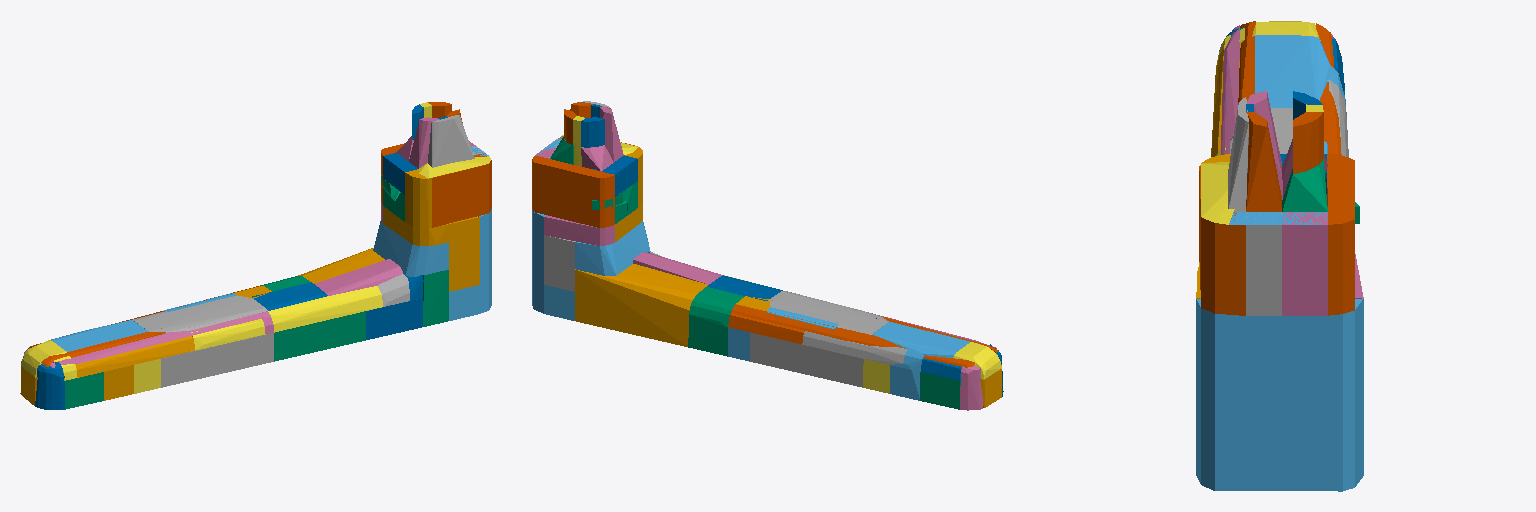
--- Render facts (derived) ---
The picture shows the robot from 3 angles, left to right: view 1: azimuth 30°, elevation 25°; view 2: azimuth 150°, elevation 25°; view 3: azimuth 270°, elevation 25°; orthographic projection.
Robot: root — 64 links, 63 joints (63 fixed); root link link_handle~handle7_convex_piece_0; default pose: every joint at zero.
Visible links, largest first — view 1: link_handle~handle7_convex_piece_63, link_handle~handle7_convex_piece_21, link_handle~handle7_convex_piece_58, link_handle~handle7_convex_piece_35, link_handle~handle7_convex_piece_47, link_handle~handle7_convex_piece_49, link_handle~handle7_convex_piece_8, link_handle~handle7_convex_piece_55, link_handle~handle7_convex_piece_48, link_handle~handle7_convex_piece_44, link_handle~handle7_convex_piece_46, link_handle~handle7_convex_piece_38 (+19 smaller); view 2: link_handle~handle7_convex_piece_56, link_handle~handle7_convex_piece_45, link_handle~handle7_convex_piece_63, link_handle~handle7_convex_piece_34, link_handle~handle7_convex_piece_49, link_handle~handle7_convex_piece_47, link_handle~handle7_convex_piece_61, link_handle~handle7_convex_piece_41, link_handle~handle7_convex_piece_7, link_handle~handle7_convex_piece_22, link_handle~handle7_convex_piece_57, link_handle~handle7_convex_piece_25 (+17 smaller); view 3: link_handle~handle7_convex_piece_25, link_handle~handle7_convex_piece_6, link_handle~handle7_convex_piece_41, link_handle~handle7_convex_piece_45, link_handle~handle7_convex_piece_21, link_handle~handle7_convex_piece_15, link_handle~handle7_convex_piece_53, link_handle~handle7_convex_piece_55, link_handle~handle7_convex_piece_26, link_handle~handle7_convex_piece_29, link_handle~handle7_convex_piece_38, link_handle~handle7_convex_piece_43 (+7 smaller).
Boxes of the visible links, bbox=[...] form: link_handle~handle7_convex_piece_63: bbox=[161, 333, 273, 387]; link_handle~handle7_convex_piece_21: bbox=[432, 153, 491, 227]; link_handle~handle7_convex_piece_58: bbox=[274, 311, 365, 361]; link_handle~handle7_convex_piece_35: bbox=[268, 286, 382, 332]; link_handle~handle7_convex_piece_47: bbox=[134, 295, 267, 333]; link_handle~handle7_convex_piece_49: bbox=[373, 220, 448, 276]; link_handle~handle7_convex_piece_8: bbox=[449, 216, 479, 291]; link_handle~handle7_convex_piece_55: bbox=[428, 115, 474, 167]; link_handle~handle7_convex_piece_48: bbox=[75, 336, 194, 377]; link_handle~handle7_convex_piece_44: bbox=[366, 298, 422, 339]; link_handle~handle7_convex_piece_46: bbox=[314, 259, 402, 295]; link_handle~handle7_convex_piece_38: bbox=[50, 313, 261, 367]; link_handle~handle7_convex_piece_56: bbox=[575, 264, 707, 346]; link_handle~handle7_convex_piece_45: bbox=[532, 156, 614, 227]; link_handle~handle7_convex_piece_63: bbox=[750, 332, 863, 387]; link_handle~handle7_convex_piece_34: bbox=[688, 287, 744, 356]; link_handle~handle7_convex_piece_49: bbox=[575, 221, 650, 275]; link_handle~handle7_convex_piece_47: bbox=[769, 291, 888, 332]; link_handle~handle7_convex_piece_61: bbox=[731, 304, 974, 367]; link_handle~handle7_convex_piece_41: bbox=[872, 322, 969, 357]; link_handle~handle7_convex_piece_7: bbox=[544, 235, 575, 291]; link_handle~handle7_convex_piece_22: bbox=[544, 215, 614, 245]; link_handle~handle7_convex_piece_57: bbox=[890, 348, 924, 400]; link_handle~handle7_convex_piece_25: bbox=[532, 209, 546, 313]; link_handle~handle7_convex_piece_25: bbox=[1196, 299, 1363, 491]; link_handle~handle7_convex_piece_6: bbox=[1282, 212, 1327, 315]; link_handle~handle7_convex_piece_41: bbox=[1255, 35, 1329, 107]; link_handle~handle7_convex_piece_45: bbox=[1327, 154, 1354, 315]; link_handle~handle7_convex_piece_21: bbox=[1199, 166, 1245, 315]; link_handle~handle7_convex_piece_15: bbox=[1246, 212, 1281, 315]; link_handle~handle7_convex_piece_53: bbox=[1246, 112, 1281, 211]; link_handle~handle7_convex_piece_55: bbox=[1228, 97, 1248, 211]; link_handle~handle7_convex_piece_26: bbox=[1282, 159, 1327, 211]; link_handle~handle7_convex_piece_29: bbox=[1293, 112, 1323, 173]; link_handle~handle7_convex_piece_38: bbox=[1221, 25, 1239, 154]; link_handle~handle7_convex_piece_43: bbox=[1201, 162, 1234, 224].
Size in the robot's own frame: 0.1277 by 0.0227 by 0.052 metres.
64 mesh visuals loaded from 64 distinct referenced files (64 OBJ).

robot.urdf — root:
<robot name="root">
  <link name="link_handle~handle7_convex_piece_0">
    <inertial>
      <origin xyz="0 0 0" rpy="0 0 0"/>
      <mass value="9.66E-04"/>
      <inertia ixx="1.10E-07" ixy="-2.01E-07" ixz="-5.53E-07" iyy="3.87E-06" iyz="-3.13E-08" izz="3.80E-06"/>
    </inertial>
    <visual>
      <origin xyz="0 0 0" rpy="0 0 0"/>
      <geometry>
        <mesh filename="handle~handle7_convex_piece_0.obj" scale="1.0000E+00 1.0000E+00 1.0000E+00"/>
      </geometry>
      <material name=""/>
    </visual>
    <collision>
      <origin xyz="0 0 0" rpy="0 0 0"/>
      <geometry>
        <mesh filename="handle~handle7_convex_piece_0.obj" scale="1.0000E+00 1.0000E+00 1.0000E+00"/>
      </geometry>
    </collision>
  </link>
  <link name="link_handle~handle7_convex_piece_1">
    <inertial>
      <origin xyz="0 0 0" rpy="0 0 0"/>
      <mass value="5.49E-04"/>
      <inertia ixx="7.18E-08" ixy="4.76E-08" ixz="-7.96E-08" iyy="1.89E-07" iyz="2.88E-08" izz="1.57E-07"/>
    </inertial>
    <visual>
      <origin xyz="0 0 0" rpy="0 0 0"/>
      <geometry>
        <mesh filename="handle~handle7_convex_piece_1.obj" scale="1.0000E+00 1.0000E+00 1.0000E+00"/>
      </geometry>
      <material name=""/>
    </visual>
    <collision>
      <origin xyz="0 0 0" rpy="0 0 0"/>
      <geometry>
        <mesh filename="handle~handle7_convex_piece_1.obj" scale="1.0000E+00 1.0000E+00 1.0000E+00"/>
      </geometry>
    </collision>
  </link>
  <joint name="link_handle~handle7_convex_piece_1_joint" type="fixed">
    <origin xyz="0 0 0" rpy="0 0 0"/>
    <parent link="link_handle~handle7_convex_piece_0"/>
    <child link="link_handle~handle7_convex_piece_1"/>
  </joint>
  <link name="link_handle~handle7_convex_piece_2">
    <inertial>
      <origin xyz="0 0 0" rpy="0 0 0"/>
      <mass value="1.30E-03"/>
      <inertia ixx="1.38E-07" ixy="1.82E-07" ixz="2.47E-07" iyy="1.01E-06" iyz="-4.94E-08" izz="9.71E-07"/>
    </inertial>
    <visual>
      <origin xyz="0 0 0" rpy="0 0 0"/>
      <geometry>
        <mesh filename="handle~handle7_convex_piece_2.obj" scale="1.0000E+00 1.0000E+00 1.0000E+00"/>
      </geometry>
      <material name=""/>
    </visual>
    <collision>
      <origin xyz="0 0 0" rpy="0 0 0"/>
      <geometry>
        <mesh filename="handle~handle7_convex_piece_2.obj" scale="1.0000E+00 1.0000E+00 1.0000E+00"/>
      </geometry>
    </collision>
  </link>
  <joint name="link_handle~handle7_convex_piece_2_joint" type="fixed">
    <origin xyz="0 0 0" rpy="0 0 0"/>
    <parent link="link_handle~handle7_convex_piece_1"/>
    <child link="link_handle~handle7_convex_piece_2"/>
  </joint>
  <link name="link_handle~handle7_convex_piece_3">
    <inertial>
      <origin xyz="0 0 0" rpy="0 0 0"/>
      <mass value="1.32E-03"/>
      <inertia ixx="1.67E-07" ixy="3.57E-09" ixz="-6.91E-07" iyy="4.07E-06" iyz="3.03E-10" izz="3.97E-06"/>
    </inertial>
    <visual>
      <origin xyz="0 0 0" rpy="0 0 0"/>
      <geometry>
        <mesh filename="handle~handle7_convex_piece_3.obj" scale="1.0000E+00 1.0000E+00 1.0000E+00"/>
      </geometry>
      <material name=""/>
    </visual>
    <collision>
      <origin xyz="0 0 0" rpy="0 0 0"/>
      <geometry>
        <mesh filename="handle~handle7_convex_piece_3.obj" scale="1.0000E+00 1.0000E+00 1.0000E+00"/>
      </geometry>
    </collision>
  </link>
  <joint name="link_handle~handle7_convex_piece_3_joint" type="fixed">
    <origin xyz="0 0 0" rpy="0 0 0"/>
    <parent link="link_handle~handle7_convex_piece_2"/>
    <child link="link_handle~handle7_convex_piece_3"/>
  </joint>
  <link name="link_handle~handle7_convex_piece_4">
    <inertial>
      <origin xyz="0 0 0" rpy="0 0 0"/>
      <mass value="1.26E-04"/>
      <inertia ixx="9.52E-09" ixy="2.07E-08" ixz="8.66E-09" iyy="5.88E-08" iyz="-3.23E-09" izz="6.50E-08"/>
    </inertial>
    <visual>
      <origin xyz="0 0 0" rpy="0 0 0"/>
      <geometry>
        <mesh filename="handle~handle7_convex_piece_4.obj" scale="1.0000E+00 1.0000E+00 1.0000E+00"/>
      </geometry>
      <material name=""/>
    </visual>
    <collision>
      <origin xyz="0 0 0" rpy="0 0 0"/>
      <geometry>
        <mesh filename="handle~handle7_convex_piece_4.obj" scale="1.0000E+00 1.0000E+00 1.0000E+00"/>
      </geometry>
    </collision>
  </link>
  <joint name="link_handle~handle7_convex_piece_4_joint" type="fixed">
    <origin xyz="0 0 0" rpy="0 0 0"/>
    <parent link="link_handle~handle7_convex_piece_3"/>
    <child link="link_handle~handle7_convex_piece_4"/>
  </joint>
  <link name="link_handle~handle7_convex_piece_5">
    <inertial>
      <origin xyz="0 0 0" rpy="0 0 0"/>
      <mass value="6.37E-05"/>
      <inertia ixx="4.13E-09" ixy="-8.38E-09" ixz="-1.26E-08" iyy="7.22E-08" iyz="-1.53E-09" izz="7.01E-08"/>
    </inertial>
    <visual>
      <origin xyz="0 0 0" rpy="0 0 0"/>
      <geometry>
        <mesh filename="handle~handle7_convex_piece_5.obj" scale="1.0000E+00 1.0000E+00 1.0000E+00"/>
      </geometry>
      <material name=""/>
    </visual>
    <collision>
      <origin xyz="0 0 0" rpy="0 0 0"/>
      <geometry>
        <mesh filename="handle~handle7_convex_piece_5.obj" scale="1.0000E+00 1.0000E+00 1.0000E+00"/>
      </geometry>
    </collision>
  </link>
  <joint name="link_handle~handle7_convex_piece_5_joint" type="fixed">
    <origin xyz="0 0 0" rpy="0 0 0"/>
    <parent link="link_handle~handle7_convex_piece_4"/>
    <child link="link_handle~handle7_convex_piece_5"/>
  </joint>
  <link name="link_handle~handle7_convex_piece_6">
    <inertial>
      <origin xyz="0 0 0" rpy="0 0 0"/>
      <mass value="4.26E-04"/>
      <inertia ixx="1.64E-07" ixy="-5.77E-08" ixz="-3.39E-07" iyy="9.14E-07" iyz="-2.60E-08" izz="7.62E-07"/>
    </inertial>
    <visual>
      <origin xyz="0 0 0" rpy="0 0 0"/>
      <geometry>
        <mesh filename="handle~handle7_convex_piece_6.obj" scale="1.0000E+00 1.0000E+00 1.0000E+00"/>
      </geometry>
      <material name=""/>
    </visual>
    <collision>
      <origin xyz="0 0 0" rpy="0 0 0"/>
      <geometry>
        <mesh filename="handle~handle7_convex_piece_6.obj" scale="1.0000E+00 1.0000E+00 1.0000E+00"/>
      </geometry>
    </collision>
  </link>
  <joint name="link_handle~handle7_convex_piece_6_joint" type="fixed">
    <origin xyz="0 0 0" rpy="0 0 0"/>
    <parent link="link_handle~handle7_convex_piece_5"/>
    <child link="link_handle~handle7_convex_piece_6"/>
  </joint>
  <link name="link_handle~handle7_convex_piece_7">
    <inertial>
      <origin xyz="0 0 0" rpy="0 0 0"/>
      <mass value="7.29E-04"/>
      <inertia ixx="6.05E-08" ixy="-2.02E-07" ixz="-1.78E-08" iyy="8.79E-07" iyz="-3.94E-09" izz="9.18E-07"/>
    </inertial>
    <visual>
      <origin xyz="0 0 0" rpy="0 0 0"/>
      <geometry>
        <mesh filename="handle~handle7_convex_piece_7.obj" scale="1.0000E+00 1.0000E+00 1.0000E+00"/>
      </geometry>
      <material name=""/>
    </visual>
    <collision>
      <origin xyz="0 0 0" rpy="0 0 0"/>
      <geometry>
        <mesh filename="handle~handle7_convex_piece_7.obj" scale="1.0000E+00 1.0000E+00 1.0000E+00"/>
      </geometry>
    </collision>
  </link>
  <joint name="link_handle~handle7_convex_piece_7_joint" type="fixed">
    <origin xyz="0 0 0" rpy="0 0 0"/>
    <parent link="link_handle~handle7_convex_piece_6"/>
    <child link="link_handle~handle7_convex_piece_7"/>
  </joint>
  <link name="link_handle~handle7_convex_piece_8">
    <inertial>
      <origin xyz="0 0 0" rpy="0 0 0"/>
      <mass value="1.00E-03"/>
      <inertia ixx="1.05E-07" ixy="2.76E-07" ixz="-1.09E-07" iyy="1.23E-06" iyz="2.51E-08" izz="1.26E-06"/>
    </inertial>
    <visual>
      <origin xyz="0 0 0" rpy="0 0 0"/>
      <geometry>
        <mesh filename="handle~handle7_convex_piece_8.obj" scale="1.0000E+00 1.0000E+00 1.0000E+00"/>
      </geometry>
      <material name=""/>
    </visual>
    <collision>
      <origin xyz="0 0 0" rpy="0 0 0"/>
      <geometry>
        <mesh filename="handle~handle7_convex_piece_8.obj" scale="1.0000E+00 1.0000E+00 1.0000E+00"/>
      </geometry>
    </collision>
  </link>
  <joint name="link_handle~handle7_convex_piece_8_joint" type="fixed">
    <origin xyz="0 0 0" rpy="0 0 0"/>
    <parent link="link_handle~handle7_convex_piece_7"/>
    <child link="link_handle~handle7_convex_piece_8"/>
  </joint>
  <link name="link_handle~handle7_convex_piece_9">
    <inertial>
      <origin xyz="0 0 0" rpy="0 0 0"/>
      <mass value="0.00E+00"/>
      <inertia ixx="0.00E+00" ixy="-0.00E+00" ixz="-1.74E-22" iyy="0.00E+00" iyz="-0.00E+00" izz="0.00E+00"/>
    </inertial>
    <visual>
      <origin xyz="0 0 0" rpy="0 0 0"/>
      <geometry>
        <mesh filename="handle~handle7_convex_piece_9.obj" scale="1.0000E+00 1.0000E+00 1.0000E+00"/>
      </geometry>
      <material name=""/>
    </visual>
    <collision>
      <origin xyz="0 0 0" rpy="0 0 0"/>
      <geometry>
        <mesh filename="handle~handle7_convex_piece_9.obj" scale="1.0000E+00 1.0000E+00 1.0000E+00"/>
      </geometry>
    </collision>
  </link>
  <joint name="link_handle~handle7_convex_piece_9_joint" type="fixed">
    <origin xyz="0 0 0" rpy="0 0 0"/>
    <parent link="link_handle~handle7_convex_piece_8"/>
    <child link="link_handle~handle7_convex_piece_9"/>
  </joint>
  <link name="link_handle~handle7_convex_piece_10">
    <inertial>
      <origin xyz="0 0 0" rpy="0 0 0"/>
      <mass value="7.95E-05"/>
      <inertia ixx="2.95E-08" ixy="-1.14E-08" ixz="-3.44E-08" iyy="7.14E-08" iyz="-8.72E-09" izz="4.84E-08"/>
    </inertial>
    <visual>
      <origin xyz="0 0 0" rpy="0 0 0"/>
      <geometry>
        <mesh filename="handle~handle7_convex_piece_10.obj" scale="1.0000E+00 1.0000E+00 1.0000E+00"/>
      </geometry>
      <material name=""/>
    </visual>
    <collision>
      <origin xyz="0 0 0" rpy="0 0 0"/>
      <geometry>
        <mesh filename="handle~handle7_convex_piece_10.obj" scale="1.0000E+00 1.0000E+00 1.0000E+00"/>
      </geometry>
    </collision>
  </link>
  <joint name="link_handle~handle7_convex_piece_10_joint" type="fixed">
    <origin xyz="0 0 0" rpy="0 0 0"/>
    <parent link="link_handle~handle7_convex_piece_9"/>
    <child link="link_handle~handle7_convex_piece_10"/>
  </joint>
  <link name="link_handle~handle7_convex_piece_11">
    <inertial>
      <origin xyz="0 0 0" rpy="0 0 0"/>
      <mass value="1.10E-04"/>
      <inertia ixx="8.50E-08" ixy="-1.58E-08" ixz="-9.57E-08" iyy="2.02E-07" iyz="-1.29E-08" izz="1.21E-07"/>
    </inertial>
    <visual>
      <origin xyz="0 0 0" rpy="0 0 0"/>
      <geometry>
        <mesh filename="handle~handle7_convex_piece_11.obj" scale="1.0000E+00 1.0000E+00 1.0000E+00"/>
      </geometry>
      <material name=""/>
    </visual>
    <collision>
      <origin xyz="0 0 0" rpy="0 0 0"/>
      <geometry>
        <mesh filename="handle~handle7_convex_piece_11.obj" scale="1.0000E+00 1.0000E+00 1.0000E+00"/>
      </geometry>
    </collision>
  </link>
  <joint name="link_handle~handle7_convex_piece_11_joint" type="fixed">
    <origin xyz="0 0 0" rpy="0 0 0"/>
    <parent link="link_handle~handle7_convex_piece_10"/>
    <child link="link_handle~handle7_convex_piece_11"/>
  </joint>
  <link name="link_handle~handle7_convex_piece_12">
    <inertial>
      <origin xyz="0 0 0" rpy="0 0 0"/>
      <mass value="5.61E-05"/>
      <inertia ixx="4.03E-09" ixy="2.89E-08" ixz="-1.80E-08" iyy="2.95E-07" iyz="1.80E-09" izz="2.97E-07"/>
    </inertial>
    <visual>
      <origin xyz="0 0 0" rpy="0 0 0"/>
      <geometry>
        <mesh filename="handle~handle7_convex_piece_12.obj" scale="1.0000E+00 1.0000E+00 1.0000E+00"/>
      </geometry>
      <material name=""/>
    </visual>
    <collision>
      <origin xyz="0 0 0" rpy="0 0 0"/>
      <geometry>
        <mesh filename="handle~handle7_convex_piece_12.obj" scale="1.0000E+00 1.0000E+00 1.0000E+00"/>
      </geometry>
    </collision>
  </link>
  <joint name="link_handle~handle7_convex_piece_12_joint" type="fixed">
    <origin xyz="0 0 0" rpy="0 0 0"/>
    <parent link="link_handle~handle7_convex_piece_11"/>
    <child link="link_handle~handle7_convex_piece_12"/>
  </joint>
  <link name="link_handle~handle7_convex_piece_13">
    <inertial>
      <origin xyz="0 0 0" rpy="0 0 0"/>
      <mass value="1.04E-04"/>
      <inertia ixx="9.45E-09" ixy="1.99E-08" ixz="-1.05E-08" iyy="6.02E-08" iyz="3.88E-09" izz="6.54E-08"/>
    </inertial>
    <visual>
      <origin xyz="0 0 0" rpy="0 0 0"/>
      <geometry>
        <mesh filename="handle~handle7_convex_piece_13.obj" scale="1.0000E+00 1.0000E+00 1.0000E+00"/>
      </geometry>
      <material name=""/>
    </visual>
    <collision>
      <origin xyz="0 0 0" rpy="0 0 0"/>
      <geometry>
        <mesh filename="handle~handle7_convex_piece_13.obj" scale="1.0000E+00 1.0000E+00 1.0000E+00"/>
      </geometry>
    </collision>
  </link>
  <joint name="link_handle~handle7_convex_piece_13_joint" type="fixed">
    <origin xyz="0 0 0" rpy="0 0 0"/>
    <parent link="link_handle~handle7_convex_piece_12"/>
    <child link="link_handle~handle7_convex_piece_13"/>
  </joint>
  <link name="link_handle~handle7_convex_piece_14">
    <inertial>
      <origin xyz="0 0 0" rpy="0 0 0"/>
      <mass value="1.01E-04"/>
      <inertia ixx="1.33E-08" ixy="5.02E-08" ixz="-7.29E-08" iyy="6.50E-07" iyz="5.75E-09" izz="6.45E-07"/>
    </inertial>
    <visual>
      <origin xyz="0 0 0" rpy="0 0 0"/>
      <geometry>
        <mesh filename="handle~handle7_convex_piece_14.obj" scale="1.0000E+00 1.0000E+00 1.0000E+00"/>
      </geometry>
      <material name=""/>
    </visual>
    <collision>
      <origin xyz="0 0 0" rpy="0 0 0"/>
      <geometry>
        <mesh filename="handle~handle7_convex_piece_14.obj" scale="1.0000E+00 1.0000E+00 1.0000E+00"/>
      </geometry>
    </collision>
  </link>
  <joint name="link_handle~handle7_convex_piece_14_joint" type="fixed">
    <origin xyz="0 0 0" rpy="0 0 0"/>
    <parent link="link_handle~handle7_convex_piece_13"/>
    <child link="link_handle~handle7_convex_piece_14"/>
  </joint>
  <link name="link_handle~handle7_convex_piece_15">
    <inertial>
      <origin xyz="0 0 0" rpy="0 0 0"/>
      <mass value="6.59E-04"/>
      <inertia ixx="2.51E-07" ixy="5.80E-08" ixz="-4.97E-07" iyy="1.30E-06" iyz="2.77E-08" izz="1.06E-06"/>
    </inertial>
    <visual>
      <origin xyz="0 0 0" rpy="0 0 0"/>
      <geometry>
        <mesh filename="handle~handle7_convex_piece_15.obj" scale="1.0000E+00 1.0000E+00 1.0000E+00"/>
      </geometry>
      <material name=""/>
    </visual>
    <collision>
      <origin xyz="0 0 0" rpy="0 0 0"/>
      <geometry>
        <mesh filename="handle~handle7_convex_piece_15.obj" scale="1.0000E+00 1.0000E+00 1.0000E+00"/>
      </geometry>
    </collision>
  </link>
  <joint name="link_handle~handle7_convex_piece_15_joint" type="fixed">
    <origin xyz="0 0 0" rpy="0 0 0"/>
    <parent link="link_handle~handle7_convex_piece_14"/>
    <child link="link_handle~handle7_convex_piece_15"/>
  </joint>
  <link name="link_handle~handle7_convex_piece_16">
    <inertial>
      <origin xyz="0 0 0" rpy="0 0 0"/>
      <mass value="3.86E-04"/>
      <inertia ixx="4.54E-08" ixy="2.09E-08" ixz="-3.16E-07" iyy="2.54E-06" iyz="2.73E-09" izz="2.50E-06"/>
    </inertial>
    <visual>
      <origin xyz="0 0 0" rpy="0 0 0"/>
      <geometry>
        <mesh filename="handle~handle7_convex_piece_16.obj" scale="1.0000E+00 1.0000E+00 1.0000E+00"/>
      </geometry>
      <material name=""/>
    </visual>
    <collision>
      <origin xyz="0 0 0" rpy="0 0 0"/>
      <geometry>
        <mesh filename="handle~handle7_convex_piece_16.obj" scale="1.0000E+00 1.0000E+00 1.0000E+00"/>
      </geometry>
    </collision>
  </link>
  <joint name="link_handle~handle7_convex_piece_16_joint" type="fixed">
    <origin xyz="0 0 0" rpy="0 0 0"/>
    <parent link="link_handle~handle7_convex_piece_15"/>
    <child link="link_handle~handle7_convex_piece_16"/>
  </joint>
  <link name="link_handle~handle7_convex_piece_17">
    <inertial>
      <origin xyz="0 0 0" rpy="0 0 0"/>
      <mass value="1.62E-03"/>
      <inertia ixx="2.50E-07" ixy="-6.46E-10" ixz="5.82E-07" iyy="2.15E-06" iyz="1.84E-10" izz="2.04E-06"/>
    </inertial>
    <visual>
      <origin xyz="0 0 0" rpy="0 0 0"/>
      <geometry>
        <mesh filename="handle~handle7_convex_piece_17.obj" scale="1.0000E+00 1.0000E+00 1.0000E+00"/>
      </geometry>
      <material name=""/>
    </visual>
    <collision>
      <origin xyz="0 0 0" rpy="0 0 0"/>
      <geometry>
        <mesh filename="handle~handle7_convex_piece_17.obj" scale="1.0000E+00 1.0000E+00 1.0000E+00"/>
      </geometry>
    </collision>
  </link>
  <joint name="link_handle~handle7_convex_piece_17_joint" type="fixed">
    <origin xyz="0 0 0" rpy="0 0 0"/>
    <parent link="link_handle~handle7_convex_piece_16"/>
    <child link="link_handle~handle7_convex_piece_17"/>
  </joint>
  <link name="link_handle~handle7_convex_piece_18">
    <inertial>
      <origin xyz="0 0 0" rpy="0 0 0"/>
      <mass value="1.58E-03"/>
      <inertia ixx="2.16E-07" ixy="1.81E-09" ixz="-1.18E-06" iyy="8.41E-06" iyz="1.79E-10" izz="8.28E-06"/>
    </inertial>
    <visual>
      <origin xyz="0 0 0" rpy="0 0 0"/>
      <geometry>
        <mesh filename="handle~handle7_convex_piece_18.obj" scale="1.0000E+00 1.0000E+00 1.0000E+00"/>
      </geometry>
      <material name=""/>
    </visual>
    <collision>
      <origin xyz="0 0 0" rpy="0 0 0"/>
      <geometry>
        <mesh filename="handle~handle7_convex_piece_18.obj" scale="1.0000E+00 1.0000E+00 1.0000E+00"/>
      </geometry>
    </collision>
  </link>
  <joint name="link_handle~handle7_convex_piece_18_joint" type="fixed">
    <origin xyz="0 0 0" rpy="0 0 0"/>
    <parent link="link_handle~handle7_convex_piece_17"/>
    <child link="link_handle~handle7_convex_piece_18"/>
  </joint>
  <link name="link_handle~handle7_convex_piece_19">
    <inertial>
      <origin xyz="0 0 0" rpy="0 0 0"/>
      <mass value="3.68E-04"/>
      <inertia ixx="1.62E-08" ixy="-2.82E-12" ixz="-4.61E-08" iyy="5.04E-07" iyz="-2.65E-13" izz="4.93E-07"/>
    </inertial>
    <visual>
      <origin xyz="0 0 0" rpy="0 0 0"/>
      <geometry>
        <mesh filename="handle~handle7_convex_piece_19.obj" scale="1.0000E+00 1.0000E+00 1.0000E+00"/>
      </geometry>
      <material name=""/>
    </visual>
    <collision>
      <origin xyz="0 0 0" rpy="0 0 0"/>
      <geometry>
        <mesh filename="handle~handle7_convex_piece_19.obj" scale="1.0000E+00 1.0000E+00 1.0000E+00"/>
      </geometry>
    </collision>
  </link>
  <joint name="link_handle~handle7_convex_piece_19_joint" type="fixed">
    <origin xyz="0 0 0" rpy="0 0 0"/>
    <parent link="link_handle~handle7_convex_piece_18"/>
    <child link="link_handle~handle7_convex_piece_19"/>
  </joint>
  <link name="link_handle~handle7_convex_piece_20">
    <inertial>
      <origin xyz="0 0 0" rpy="0 0 0"/>
      <mass value="1.97E-04"/>
      <inertia ixx="2.43E-08" ixy="-8.39E-08" ixz="-1.43E-07" iyy="1.27E-06" iyz="-9.59E-09" izz="1.26E-06"/>
    </inertial>
    <visual>
      <origin xyz="0 0 0" rpy="0 0 0"/>
      <geometry>
        <mesh filename="handle~handle7_convex_piece_20.obj" scale="1.0000E+00 1.0000E+00 1.0000E+00"/>
      </geometry>
      <material name=""/>
    </visual>
    <collision>
      <origin xyz="0 0 0" rpy="0 0 0"/>
      <geometry>
        <mesh filename="handle~handle7_convex_piece_20.obj" scale="1.0000E+00 1.0000E+00 1.0000E+00"/>
      </geometry>
    </collision>
  </link>
  <joint name="link_handle~handle7_convex_piece_20_joint" type="fixed">
    <origin xyz="0 0 0" rpy="0 0 0"/>
    <parent link="link_handle~handle7_convex_piece_19"/>
    <child link="link_handle~handle7_convex_piece_20"/>
  </joint>
  <link name="link_handle~handle7_convex_piece_21">
    <inertial>
      <origin xyz="0 0 0" rpy="0 0 0"/>
      <mass value="1.69E-03"/>
      <inertia ixx="7.27E-07" ixy="4.37E-07" ixz="-1.09E-06" iyy="2.65E-06" iyz="2.41E-07" izz="2.13E-06"/>
    </inertial>
    <visual>
      <origin xyz="0 0 0" rpy="0 0 0"/>
      <geometry>
        <mesh filename="handle~handle7_convex_piece_21.obj" scale="1.0000E+00 1.0000E+00 1.0000E+00"/>
      </geometry>
      <material name=""/>
    </visual>
    <collision>
      <origin xyz="0 0 0" rpy="0 0 0"/>
      <geometry>
        <mesh filename="handle~handle7_convex_piece_21.obj" scale="1.0000E+00 1.0000E+00 1.0000E+00"/>
      </geometry>
    </collision>
  </link>
  <joint name="link_handle~handle7_convex_piece_21_joint" type="fixed">
    <origin xyz="0 0 0" rpy="0 0 0"/>
    <parent link="link_handle~handle7_convex_piece_20"/>
    <child link="link_handle~handle7_convex_piece_21"/>
  </joint>
  <link name="link_handle~handle7_convex_piece_22">
    <inertial>
      <origin xyz="0 0 0" rpy="0 0 0"/>
      <mass value="4.37E-04"/>
      <inertia ixx="7.14E-08" ixy="-1.10E-07" ixz="-1.32E-07" iyy="4.75E-07" iyz="-3.41E-08" izz="4.63E-07"/>
    </inertial>
    <visual>
      <origin xyz="0 0 0" rpy="0 0 0"/>
      <geometry>
        <mesh filename="handle~handle7_convex_piece_22.obj" scale="1.0000E+00 1.0000E+00 1.0000E+00"/>
      </geometry>
      <material name=""/>
    </visual>
    <collision>
      <origin xyz="0 0 0" rpy="0 0 0"/>
      <geometry>
        <mesh filename="handle~handle7_convex_piece_22.obj" scale="1.0000E+00 1.0000E+00 1.0000E+00"/>
      </geometry>
    </collision>
  </link>
  <joint name="link_handle~handle7_convex_piece_22_joint" type="fixed">
    <origin xyz="0 0 0" rpy="0 0 0"/>
    <parent link="link_handle~handle7_convex_piece_21"/>
    <child link="link_handle~handle7_convex_piece_22"/>
  </joint>
  <link name="link_handle~handle7_convex_piece_23">
    <inertial>
      <origin xyz="0 0 0" rpy="0 0 0"/>
      <mass value="5.21E-05"/>
      <inertia ixx="4.34E-09" ixy="2.30E-08" ixz="-1.31E-08" iyy="1.66E-07" iyz="1.86E-09" izz="1.68E-07"/>
    </inertial>
    <visual>
      <origin xyz="0 0 0" rpy="0 0 0"/>
      <geometry>
        <mesh filename="handle~handle7_convex_piece_23.obj" scale="1.0000E+00 1.0000E+00 1.0000E+00"/>
      </geometry>
      <material name=""/>
    </visual>
    <collision>
      <origin xyz="0 0 0" rpy="0 0 0"/>
      <geometry>
        <mesh filename="handle~handle7_convex_piece_23.obj" scale="1.0000E+00 1.0000E+00 1.0000E+00"/>
      </geometry>
    </collision>
  </link>
  <joint name="link_handle~handle7_convex_piece_23_joint" type="fixed">
    <origin xyz="0 0 0" rpy="0 0 0"/>
    <parent link="link_handle~handle7_convex_piece_22"/>
    <child link="link_handle~handle7_convex_piece_23"/>
  </joint>
  <link name="link_handle~handle7_convex_piece_24">
    <inertial>
      <origin xyz="0 0 0" rpy="0 0 0"/>
      <mass value="2.36E-04"/>
      <inertia ixx="1.08E-07" ixy="4.22E-08" ixz="-1.10E-07" iyy="2.28E-07" iyz="3.44E-08" izz="1.47E-07"/>
    </inertial>
    <visual>
      <origin xyz="0 0 0" rpy="0 0 0"/>
      <geometry>
        <mesh filename="handle~handle7_convex_piece_24.obj" scale="1.0000E+00 1.0000E+00 1.0000E+00"/>
      </geometry>
      <material name=""/>
    </visual>
    <collision>
      <origin xyz="0 0 0" rpy="0 0 0"/>
      <geometry>
        <mesh filename="handle~handle7_convex_piece_24.obj" scale="1.0000E+00 1.0000E+00 1.0000E+00"/>
      </geometry>
    </collision>
  </link>
  <joint name="link_handle~handle7_convex_piece_24_joint" type="fixed">
    <origin xyz="0 0 0" rpy="0 0 0"/>
    <parent link="link_handle~handle7_convex_piece_23"/>
    <child link="link_handle~handle7_convex_piece_24"/>
  </joint>
  <link name="link_handle~handle7_convex_piece_25">
    <inertial>
      <origin xyz="0 0 0" rpy="0 0 0"/>
      <mass value="2.85E-03"/>
      <inertia ixx="2.75E-07" ixy="-2.63E-10" ixz="1.26E-07" iyy="5.06E-06" iyz="-4.60E-12" izz="5.00E-06"/>
    </inertial>
    <visual>
      <origin xyz="0 0 0" rpy="0 0 0"/>
      <geometry>
        <mesh filename="handle~handle7_convex_piece_25.obj" scale="1.0000E+00 1.0000E+00 1.0000E+00"/>
      </geometry>
      <material name=""/>
    </visual>
    <collision>
      <origin xyz="0 0 0" rpy="0 0 0"/>
      <geometry>
        <mesh filename="handle~handle7_convex_piece_25.obj" scale="1.0000E+00 1.0000E+00 1.0000E+00"/>
      </geometry>
    </collision>
  </link>
  <joint name="link_handle~handle7_convex_piece_25_joint" type="fixed">
    <origin xyz="0 0 0" rpy="0 0 0"/>
    <parent link="link_handle~handle7_convex_piece_24"/>
    <child link="link_handle~handle7_convex_piece_25"/>
  </joint>
  <link name="link_handle~handle7_convex_piece_26">
    <inertial>
      <origin xyz="0 0 0" rpy="0 0 0"/>
      <mass value="5.97E-04"/>
      <inertia ixx="2.83E-07" ixy="-8.32E-08" ixz="-4.70E-07" iyy="1.13E-06" iyz="-4.53E-08" izz="8.68E-07"/>
    </inertial>
    <visual>
      <origin xyz="0 0 0" rpy="0 0 0"/>
      <geometry>
        <mesh filename="handle~handle7_convex_piece_26.obj" scale="1.0000E+00 1.0000E+00 1.0000E+00"/>
      </geometry>
      <material name=""/>
    </visual>
    <collision>
      <origin xyz="0 0 0" rpy="0 0 0"/>
      <geometry>
        <mesh filename="handle~handle7_convex_piece_26.obj" scale="1.0000E+00 1.0000E+00 1.0000E+00"/>
      </geometry>
    </collision>
  </link>
  <joint name="link_handle~handle7_convex_piece_26_joint" type="fixed">
    <origin xyz="0 0 0" rpy="0 0 0"/>
    <parent link="link_handle~handle7_convex_piece_25"/>
    <child link="link_handle~handle7_convex_piece_26"/>
  </joint>
  <link name="link_handle~handle7_convex_piece_27">
    <inertial>
      <origin xyz="0 0 0" rpy="0 0 0"/>
      <mass value="9.42E-05"/>
      <inertia ixx="8.77E-09" ixy="-2.44E-08" ixz="-1.29E-08" iyy="9.31E-08" iyz="-3.61E-09" izz="9.79E-08"/>
    </inertial>
    <visual>
      <origin xyz="0 0 0" rpy="0 0 0"/>
      <geometry>
        <mesh filename="handle~handle7_convex_piece_27.obj" scale="1.0000E+00 1.0000E+00 1.0000E+00"/>
      </geometry>
      <material name=""/>
    </visual>
    <collision>
      <origin xyz="0 0 0" rpy="0 0 0"/>
      <geometry>
        <mesh filename="handle~handle7_convex_piece_27.obj" scale="1.0000E+00 1.0000E+00 1.0000E+00"/>
      </geometry>
    </collision>
  </link>
  <joint name="link_handle~handle7_convex_piece_27_joint" type="fixed">
    <origin xyz="0 0 0" rpy="0 0 0"/>
    <parent link="link_handle~handle7_convex_piece_26"/>
    <child link="link_handle~handle7_convex_piece_27"/>
  </joint>
  <link name="link_handle~handle7_convex_piece_28">
    <inertial>
      <origin xyz="0 0 0" rpy="0 0 0"/>
      <mass value="7.24E-05"/>
      <inertia ixx="8.57E-08" ixy="-7.64E-09" ixz="-7.39E-08" iyy="1.49E-07" iyz="-8.68E-09" izz="6.56E-08"/>
    </inertial>
    <visual>
      <origin xyz="0 0 0" rpy="0 0 0"/>
      <geometry>
        <mesh filename="handle~handle7_convex_piece_28.obj" scale="1.0000E+00 1.0000E+00 1.0000E+00"/>
      </geometry>
      <material name=""/>
    </visual>
    <collision>
      <origin xyz="0 0 0" rpy="0 0 0"/>
      <geometry>
        <mesh filename="handle~handle7_convex_piece_28.obj" scale="1.0000E+00 1.0000E+00 1.0000E+00"/>
      </geometry>
    </collision>
  </link>
  <joint name="link_handle~handle7_convex_piece_28_joint" type="fixed">
    <origin xyz="0 0 0" rpy="0 0 0"/>
    <parent link="link_handle~handle7_convex_piece_27"/>
    <child link="link_handle~handle7_convex_piece_28"/>
  </joint>
  <link name="link_handle~handle7_convex_piece_29">
    <inertial>
      <origin xyz="0 0 0" rpy="0 0 0"/>
      <mass value="8.22E-05"/>
      <inertia ixx="9.75E-08" ixy="-1.06E-08" ixz="-1.02E-07" iyy="2.04E-07" iyz="-1.01E-08" izz="1.09E-07"/>
    </inertial>
    <visual>
      <origin xyz="0 0 0" rpy="0 0 0"/>
      <geometry>
        <mesh filename="handle~handle7_convex_piece_29.obj" scale="1.0000E+00 1.0000E+00 1.0000E+00"/>
      </geometry>
      <material name=""/>
    </visual>
    <collision>
      <origin xyz="0 0 0" rpy="0 0 0"/>
      <geometry>
        <mesh filename="handle~handle7_convex_piece_29.obj" scale="1.0000E+00 1.0000E+00 1.0000E+00"/>
      </geometry>
    </collision>
  </link>
  <joint name="link_handle~handle7_convex_piece_29_joint" type="fixed">
    <origin xyz="0 0 0" rpy="0 0 0"/>
    <parent link="link_handle~handle7_convex_piece_28"/>
    <child link="link_handle~handle7_convex_piece_29"/>
  </joint>
  <link name="link_handle~handle7_convex_piece_30">
    <inertial>
      <origin xyz="0 0 0" rpy="0 0 0"/>
      <mass value="2.30E-05"/>
      <inertia ixx="1.69E-09" ixy="-3.50E-09" ixz="-1.66E-09" iyy="9.55E-09" iyz="-6.54E-10" izz="1.06E-08"/>
    </inertial>
    <visual>
      <origin xyz="0 0 0" rpy="0 0 0"/>
      <geometry>
        <mesh filename="handle~handle7_convex_piece_30.obj" scale="1.0000E+00 1.0000E+00 1.0000E+00"/>
      </geometry>
      <material name=""/>
    </visual>
    <collision>
      <origin xyz="0 0 0" rpy="0 0 0"/>
      <geometry>
        <mesh filename="handle~handle7_convex_piece_30.obj" scale="1.0000E+00 1.0000E+00 1.0000E+00"/>
      </geometry>
    </collision>
  </link>
  <joint name="link_handle~handle7_convex_piece_30_joint" type="fixed">
    <origin xyz="0 0 0" rpy="0 0 0"/>
    <parent link="link_handle~handle7_convex_piece_29"/>
    <child link="link_handle~handle7_convex_piece_30"/>
  </joint>
  <link name="link_handle~handle7_convex_piece_31">
    <inertial>
      <origin xyz="0 0 0" rpy="0 0 0"/>
      <mass value="6.12E-05"/>
      <inertia ixx="5.96E-09" ixy="8.94E-09" ixz="3.44E-09" iyy="1.70E-08" iyz="-2.02E-09" izz="2.12E-08"/>
    </inertial>
    <visual>
      <origin xyz="0 0 0" rpy="0 0 0"/>
      <geometry>
        <mesh filename="handle~handle7_convex_piece_31.obj" scale="1.0000E+00 1.0000E+00 1.0000E+00"/>
      </geometry>
      <material name=""/>
    </visual>
    <collision>
      <origin xyz="0 0 0" rpy="0 0 0"/>
      <geometry>
        <mesh filename="handle~handle7_convex_piece_31.obj" scale="1.0000E+00 1.0000E+00 1.0000E+00"/>
      </geometry>
    </collision>
  </link>
  <joint name="link_handle~handle7_convex_piece_31_joint" type="fixed">
    <origin xyz="0 0 0" rpy="0 0 0"/>
    <parent link="link_handle~handle7_convex_piece_30"/>
    <child link="link_handle~handle7_convex_piece_31"/>
  </joint>
  <link name="link_handle~handle7_convex_piece_32">
    <inertial>
      <origin xyz="0 0 0" rpy="0 0 0"/>
      <mass value="7.07E-04"/>
      <inertia ixx="8.77E-08" ixy="4.75E-08" ixz="-1.80E-07" iyy="5.57E-07" iyz="1.71E-08" izz="5.09E-07"/>
    </inertial>
    <visual>
      <origin xyz="0 0 0" rpy="0 0 0"/>
      <geometry>
        <mesh filename="handle~handle7_convex_piece_32.obj" scale="1.0000E+00 1.0000E+00 1.0000E+00"/>
      </geometry>
      <material name=""/>
    </visual>
    <collision>
      <origin xyz="0 0 0" rpy="0 0 0"/>
      <geometry>
        <mesh filename="handle~handle7_convex_piece_32.obj" scale="1.0000E+00 1.0000E+00 1.0000E+00"/>
      </geometry>
    </collision>
  </link>
  <joint name="link_handle~handle7_convex_piece_32_joint" type="fixed">
    <origin xyz="0 0 0" rpy="0 0 0"/>
    <parent link="link_handle~handle7_convex_piece_31"/>
    <child link="link_handle~handle7_convex_piece_32"/>
  </joint>
  <link name="link_handle~handle7_convex_piece_33">
    <inertial>
      <origin xyz="0 0 0" rpy="0 0 0"/>
      <mass value="1.36E-04"/>
      <inertia ixx="6.47E-09" ixy="2.48E-08" ixz="-1.21E-08" iyy="1.31E-07" iyz="2.56E-09" izz="1.34E-07"/>
    </inertial>
    <visual>
      <origin xyz="0 0 0" rpy="0 0 0"/>
      <geometry>
        <mesh filename="handle~handle7_convex_piece_33.obj" scale="1.0000E+00 1.0000E+00 1.0000E+00"/>
      </geometry>
      <material name=""/>
    </visual>
    <collision>
      <origin xyz="0 0 0" rpy="0 0 0"/>
      <geometry>
        <mesh filename="handle~handle7_convex_piece_33.obj" scale="1.0000E+00 1.0000E+00 1.0000E+00"/>
      </geometry>
    </collision>
  </link>
  <joint name="link_handle~handle7_convex_piece_33_joint" type="fixed">
    <origin xyz="0 0 0" rpy="0 0 0"/>
    <parent link="link_handle~handle7_convex_piece_32"/>
    <child link="link_handle~handle7_convex_piece_33"/>
  </joint>
  <link name="link_handle~handle7_convex_piece_34">
    <inertial>
      <origin xyz="0 0 0" rpy="0 0 0"/>
      <mass value="1.24E-03"/>
      <inertia ixx="1.46E-07" ixy="4.99E-08" ixz="-7.10E-08" iyy="1.72E-07" iyz="5.89E-08" izz="1.22E-07"/>
    </inertial>
    <visual>
      <origin xyz="0 0 0" rpy="0 0 0"/>
      <geometry>
        <mesh filename="handle~handle7_convex_piece_34.obj" scale="1.0000E+00 1.0000E+00 1.0000E+00"/>
      </geometry>
      <material name=""/>
    </visual>
    <collision>
      <origin xyz="0 0 0" rpy="0 0 0"/>
      <geometry>
        <mesh filename="handle~handle7_convex_piece_34.obj" scale="1.0000E+00 1.0000E+00 1.0000E+00"/>
      </geometry>
    </collision>
  </link>
  <joint name="link_handle~handle7_convex_piece_34_joint" type="fixed">
    <origin xyz="0 0 0" rpy="0 0 0"/>
    <parent link="link_handle~handle7_convex_piece_33"/>
    <child link="link_handle~handle7_convex_piece_34"/>
  </joint>
  <link name="link_handle~handle7_convex_piece_35">
    <inertial>
      <origin xyz="0 0 0" rpy="0 0 0"/>
      <mass value="1.69E-04"/>
      <inertia ixx="1.62E-08" ixy="-4.46E-09" ixz="-2.24E-09" iyy="1.75E-08" iyz="-6.09E-09" izz="2.78E-08"/>
    </inertial>
    <visual>
      <origin xyz="0 0 0" rpy="0 0 0"/>
      <geometry>
        <mesh filename="handle~handle7_convex_piece_35.obj" scale="1.0000E+00 1.0000E+00 1.0000E+00"/>
      </geometry>
      <material name=""/>
    </visual>
    <collision>
      <origin xyz="0 0 0" rpy="0 0 0"/>
      <geometry>
        <mesh filename="handle~handle7_convex_piece_35.obj" scale="1.0000E+00 1.0000E+00 1.0000E+00"/>
      </geometry>
    </collision>
  </link>
  <joint name="link_handle~handle7_convex_piece_35_joint" type="fixed">
    <origin xyz="0 0 0" rpy="0 0 0"/>
    <parent link="link_handle~handle7_convex_piece_34"/>
    <child link="link_handle~handle7_convex_piece_35"/>
  </joint>
  <link name="link_handle~handle7_convex_piece_36">
    <inertial>
      <origin xyz="0 0 0" rpy="0 0 0"/>
      <mass value="4.37E-04"/>
      <inertia ixx="1.49E-08" ixy="-1.83E-08" ixz="-1.32E-08" iyy="6.02E-08" iyz="-6.14E-09" izz="6.64E-08"/>
    </inertial>
    <visual>
      <origin xyz="0 0 0" rpy="0 0 0"/>
      <geometry>
        <mesh filename="handle~handle7_convex_piece_36.obj" scale="1.0000E+00 1.0000E+00 1.0000E+00"/>
      </geometry>
      <material name=""/>
    </visual>
    <collision>
      <origin xyz="0 0 0" rpy="0 0 0"/>
      <geometry>
        <mesh filename="handle~handle7_convex_piece_36.obj" scale="1.0000E+00 1.0000E+00 1.0000E+00"/>
      </geometry>
    </collision>
  </link>
  <joint name="link_handle~handle7_convex_piece_36_joint" type="fixed">
    <origin xyz="0 0 0" rpy="0 0 0"/>
    <parent link="link_handle~handle7_convex_piece_35"/>
    <child link="link_handle~handle7_convex_piece_36"/>
  </joint>
  <link name="link_handle~handle7_convex_piece_37">
    <inertial>
      <origin xyz="0 0 0" rpy="0 0 0"/>
      <mass value="8.27E-05"/>
      <inertia ixx="1.98E-09" ixy="-2.26E-08" ixz="-1.14E-08" iyy="3.39E-07" iyz="-7.80E-10" izz="3.41E-07"/>
    </inertial>
    <visual>
      <origin xyz="0 0 0" rpy="0 0 0"/>
      <geometry>
        <mesh filename="handle~handle7_convex_piece_37.obj" scale="1.0000E+00 1.0000E+00 1.0000E+00"/>
      </geometry>
      <material name=""/>
    </visual>
    <collision>
      <origin xyz="0 0 0" rpy="0 0 0"/>
      <geometry>
        <mesh filename="handle~handle7_convex_piece_37.obj" scale="1.0000E+00 1.0000E+00 1.0000E+00"/>
      </geometry>
    </collision>
  </link>
  <joint name="link_handle~handle7_convex_piece_37_joint" type="fixed">
    <origin xyz="0 0 0" rpy="0 0 0"/>
    <parent link="link_handle~handle7_convex_piece_36"/>
    <child link="link_handle~handle7_convex_piece_37"/>
  </joint>
  <link name="link_handle~handle7_convex_piece_38">
    <inertial>
      <origin xyz="0 0 0" rpy="0 0 0"/>
      <mass value="7.99E-05"/>
      <inertia ixx="4.12E-09" ixy="-2.59E-08" ixz="-1.02E-08" iyy="2.11E-07" iyz="-1.37E-09" izz="2.14E-07"/>
    </inertial>
    <visual>
      <origin xyz="0 0 0" rpy="0 0 0"/>
      <geometry>
        <mesh filename="handle~handle7_convex_piece_38.obj" scale="1.0000E+00 1.0000E+00 1.0000E+00"/>
      </geometry>
      <material name=""/>
    </visual>
    <collision>
      <origin xyz="0 0 0" rpy="0 0 0"/>
      <geometry>
        <mesh filename="handle~handle7_convex_piece_38.obj" scale="1.0000E+00 1.0000E+00 1.0000E+00"/>
      </geometry>
    </collision>
  </link>
  <joint name="link_handle~handle7_convex_piece_38_joint" type="fixed">
    <origin xyz="0 0 0" rpy="0 0 0"/>
    <parent link="link_handle~handle7_convex_piece_37"/>
    <child link="link_handle~handle7_convex_piece_38"/>
  </joint>
  <link name="link_handle~handle7_convex_piece_39">
    <inertial>
      <origin xyz="0 0 0" rpy="0 0 0"/>
      <mass value="1.60E-04"/>
      <inertia ixx="1.03E-08" ixy="4.69E-08" ixz="-2.40E-08" iyy="2.89E-07" iyz="4.18E-09" izz="2.95E-07"/>
    </inertial>
    <visual>
      <origin xyz="0 0 0" rpy="0 0 0"/>
      <geometry>
        <mesh filename="handle~handle7_convex_piece_39.obj" scale="1.0000E+00 1.0000E+00 1.0000E+00"/>
      </geometry>
      <material name=""/>
    </visual>
    <collision>
      <origin xyz="0 0 0" rpy="0 0 0"/>
      <geometry>
        <mesh filename="handle~handle7_convex_piece_39.obj" scale="1.0000E+00 1.0000E+00 1.0000E+00"/>
      </geometry>
    </collision>
  </link>
  <joint name="link_handle~handle7_convex_piece_39_joint" type="fixed">
    <origin xyz="0 0 0" rpy="0 0 0"/>
    <parent link="link_handle~handle7_convex_piece_38"/>
    <child link="link_handle~handle7_convex_piece_39"/>
  </joint>
  <link name="link_handle~handle7_convex_piece_40">
    <inertial>
      <origin xyz="0 0 0" rpy="0 0 0"/>
      <mass value="1.46E-04"/>
      <inertia ixx="5.48E-09" ixy="1.20E-08" ixz="-7.54E-09" iyy="4.51E-08" iyz="2.35E-09" izz="4.75E-08"/>
    </inertial>
    <visual>
      <origin xyz="0 0 0" rpy="0 0 0"/>
      <geometry>
        <mesh filename="handle~handle7_convex_piece_40.obj" scale="1.0000E+00 1.0000E+00 1.0000E+00"/>
      </geometry>
      <material name=""/>
    </visual>
    <collision>
      <origin xyz="0 0 0" rpy="0 0 0"/>
      <geometry>
        <mesh filename="handle~handle7_convex_piece_40.obj" scale="1.0000E+00 1.0000E+00 1.0000E+00"/>
      </geometry>
    </collision>
  </link>
  <joint name="link_handle~handle7_convex_piece_40_joint" type="fixed">
    <origin xyz="0 0 0" rpy="0 0 0"/>
    <parent link="link_handle~handle7_convex_piece_39"/>
    <child link="link_handle~handle7_convex_piece_40"/>
  </joint>
  <link name="link_handle~handle7_convex_piece_41">
    <inertial>
      <origin xyz="0 0 0" rpy="0 0 0"/>
      <mass value="6.87E-04"/>
      <inertia ixx="1.81E-08" ixy="1.19E-07" ixz="-1.31E-07" iyy="2.73E-06" iyz="7.14E-09" izz="2.73E-06"/>
    </inertial>
    <visual>
      <origin xyz="0 0 0" rpy="0 0 0"/>
      <geometry>
        <mesh filename="handle~handle7_convex_piece_41.obj" scale="1.0000E+00 1.0000E+00 1.0000E+00"/>
      </geometry>
      <material name=""/>
    </visual>
    <collision>
      <origin xyz="0 0 0" rpy="0 0 0"/>
      <geometry>
        <mesh filename="handle~handle7_convex_piece_41.obj" scale="1.0000E+00 1.0000E+00 1.0000E+00"/>
      </geometry>
    </collision>
  </link>
  <joint name="link_handle~handle7_convex_piece_41_joint" type="fixed">
    <origin xyz="0 0 0" rpy="0 0 0"/>
    <parent link="link_handle~handle7_convex_piece_40"/>
    <child link="link_handle~handle7_convex_piece_41"/>
  </joint>
  <link name="link_handle~handle7_convex_piece_42">
    <inertial>
      <origin xyz="0 0 0" rpy="0 0 0"/>
      <mass value="3.02E-04"/>
      <inertia ixx="7.59E-08" ixy="1.97E-08" ixz="-1.23E-07" iyy="2.85E-07" iyz="1.18E-08" izz="2.14E-07"/>
    </inertial>
    <visual>
      <origin xyz="0 0 0" rpy="0 0 0"/>
      <geometry>
        <mesh filename="handle~handle7_convex_piece_42.obj" scale="1.0000E+00 1.0000E+00 1.0000E+00"/>
      </geometry>
      <material name=""/>
    </visual>
    <collision>
      <origin xyz="0 0 0" rpy="0 0 0"/>
      <geometry>
        <mesh filename="handle~handle7_convex_piece_42.obj" scale="1.0000E+00 1.0000E+00 1.0000E+00"/>
      </geometry>
    </collision>
  </link>
  <joint name="link_handle~handle7_convex_piece_42_joint" type="fixed">
    <origin xyz="0 0 0" rpy="0 0 0"/>
    <parent link="link_handle~handle7_convex_piece_41"/>
    <child link="link_handle~handle7_convex_piece_42"/>
  </joint>
  <link name="link_handle~handle7_convex_piece_43">
    <inertial>
      <origin xyz="0 0 0" rpy="0 0 0"/>
      <mass value="4.19E-05"/>
      <inertia ixx="3.05E-08" ixy="9.54E-09" ixz="-3.51E-08" iyy="7.27E-08" iyz="7.64E-09" izz="4.65E-08"/>
    </inertial>
    <visual>
      <origin xyz="0 0 0" rpy="0 0 0"/>
      <geometry>
        <mesh filename="handle~handle7_convex_piece_43.obj" scale="1.0000E+00 1.0000E+00 1.0000E+00"/>
      </geometry>
      <material name=""/>
    </visual>
    <collision>
      <origin xyz="0 0 0" rpy="0 0 0"/>
      <geometry>
        <mesh filename="handle~handle7_convex_piece_43.obj" scale="1.0000E+00 1.0000E+00 1.0000E+00"/>
      </geometry>
    </collision>
  </link>
  <joint name="link_handle~handle7_convex_piece_43_joint" type="fixed">
    <origin xyz="0 0 0" rpy="0 0 0"/>
    <parent link="link_handle~handle7_convex_piece_42"/>
    <child link="link_handle~handle7_convex_piece_43"/>
  </joint>
  <link name="link_handle~handle7_convex_piece_44">
    <inertial>
      <origin xyz="0 0 0" rpy="0 0 0"/>
      <mass value="1.75E-03"/>
      <inertia ixx="2.36E-07" ixy="1.32E-07" ixz="2.51E-07" iyy="5.95E-07" iyz="-8.61E-08" izz="4.83E-07"/>
    </inertial>
    <visual>
      <origin xyz="0 0 0" rpy="0 0 0"/>
      <geometry>
        <mesh filename="handle~handle7_convex_piece_44.obj" scale="1.0000E+00 1.0000E+00 1.0000E+00"/>
      </geometry>
      <material name=""/>
    </visual>
    <collision>
      <origin xyz="0 0 0" rpy="0 0 0"/>
      <geometry>
        <mesh filename="handle~handle7_convex_piece_44.obj" scale="1.0000E+00 1.0000E+00 1.0000E+00"/>
      </geometry>
    </collision>
  </link>
  <joint name="link_handle~handle7_convex_piece_44_joint" type="fixed">
    <origin xyz="0 0 0" rpy="0 0 0"/>
    <parent link="link_handle~handle7_convex_piece_43"/>
    <child link="link_handle~handle7_convex_piece_44"/>
  </joint>
  <link name="link_handle~handle7_convex_piece_45">
    <inertial>
      <origin xyz="0 0 0" rpy="0 0 0"/>
      <mass value="1.14E-03"/>
      <inertia ixx="5.04E-07" ixy="-3.11E-07" ixz="-7.15E-07" iyy="1.72E-06" iyz="-1.77E-07" izz="1.37E-06"/>
    </inertial>
    <visual>
      <origin xyz="0 0 0" rpy="0 0 0"/>
      <geometry>
        <mesh filename="handle~handle7_convex_piece_45.obj" scale="1.0000E+00 1.0000E+00 1.0000E+00"/>
      </geometry>
      <material name=""/>
    </visual>
    <collision>
      <origin xyz="0 0 0" rpy="0 0 0"/>
      <geometry>
        <mesh filename="handle~handle7_convex_piece_45.obj" scale="1.0000E+00 1.0000E+00 1.0000E+00"/>
      </geometry>
    </collision>
  </link>
  <joint name="link_handle~handle7_convex_piece_45_joint" type="fixed">
    <origin xyz="0 0 0" rpy="0 0 0"/>
    <parent link="link_handle~handle7_convex_piece_44"/>
    <child link="link_handle~handle7_convex_piece_45"/>
  </joint>
  <link name="link_handle~handle7_convex_piece_46">
    <inertial>
      <origin xyz="0 0 0" rpy="0 0 0"/>
      <mass value="1.04E-03"/>
      <inertia ixx="3.66E-08" ixy="4.78E-08" ixz="3.91E-08" iyy="2.03E-07" iyz="-1.46E-08" izz="2.14E-07"/>
    </inertial>
    <visual>
      <origin xyz="0 0 0" rpy="0 0 0"/>
      <geometry>
        <mesh filename="handle~handle7_convex_piece_46.obj" scale="1.0000E+00 1.0000E+00 1.0000E+00"/>
      </geometry>
      <material name=""/>
    </visual>
    <collision>
      <origin xyz="0 0 0" rpy="0 0 0"/>
      <geometry>
        <mesh filename="handle~handle7_convex_piece_46.obj" scale="1.0000E+00 1.0000E+00 1.0000E+00"/>
      </geometry>
    </collision>
  </link>
  <joint name="link_handle~handle7_convex_piece_46_joint" type="fixed">
    <origin xyz="0 0 0" rpy="0 0 0"/>
    <parent link="link_handle~handle7_convex_piece_45"/>
    <child link="link_handle~handle7_convex_piece_46"/>
  </joint>
  <link name="link_handle~handle7_convex_piece_47">
    <inertial>
      <origin xyz="0 0 0" rpy="0 0 0"/>
      <mass value="1.02E-03"/>
      <inertia ixx="2.81E-08" ixy="-9.16E-08" ixz="-1.05E-07" iyy="1.31E-06" iyz="-1.03E-08" izz="1.31E-06"/>
    </inertial>
    <visual>
      <origin xyz="0 0 0" rpy="0 0 0"/>
      <geometry>
        <mesh filename="handle~handle7_convex_piece_47.obj" scale="1.0000E+00 1.0000E+00 1.0000E+00"/>
      </geometry>
      <material name=""/>
    </visual>
    <collision>
      <origin xyz="0 0 0" rpy="0 0 0"/>
      <geometry>
        <mesh filename="handle~handle7_convex_piece_47.obj" scale="1.0000E+00 1.0000E+00 1.0000E+00"/>
      </geometry>
    </collision>
  </link>
  <joint name="link_handle~handle7_convex_piece_47_joint" type="fixed">
    <origin xyz="0 0 0" rpy="0 0 0"/>
    <parent link="link_handle~handle7_convex_piece_46"/>
    <child link="link_handle~handle7_convex_piece_47"/>
  </joint>
  <link name="link_handle~handle7_convex_piece_48">
    <inertial>
      <origin xyz="0 0 0" rpy="0 0 0"/>
      <mass value="2.59E-04"/>
      <inertia ixx="1.71E-08" ixy="-1.02E-07" ixz="-5.98E-08" iyy="8.84E-07" iyz="-7.39E-09" izz="8.92E-07"/>
    </inertial>
    <visual>
      <origin xyz="0 0 0" rpy="0 0 0"/>
      <geometry>
        <mesh filename="handle~handle7_convex_piece_48.obj" scale="1.0000E+00 1.0000E+00 1.0000E+00"/>
      </geometry>
      <material name=""/>
    </visual>
    <collision>
      <origin xyz="0 0 0" rpy="0 0 0"/>
      <geometry>
        <mesh filename="handle~handle7_convex_piece_48.obj" scale="1.0000E+00 1.0000E+00 1.0000E+00"/>
      </geometry>
    </collision>
  </link>
  <joint name="link_handle~handle7_convex_piece_48_joint" type="fixed">
    <origin xyz="0 0 0" rpy="0 0 0"/>
    <parent link="link_handle~handle7_convex_piece_47"/>
    <child link="link_handle~handle7_convex_piece_48"/>
  </joint>
  <link name="link_handle~handle7_convex_piece_49">
    <inertial>
      <origin xyz="0 0 0" rpy="0 0 0"/>
      <mass value="1.62E-03"/>
      <inertia ixx="8.37E-08" ixy="2.47E-09" ixz="-1.36E-07" iyy="1.11E-06" iyz="2.74E-10" izz="1.14E-06"/>
    </inertial>
    <visual>
      <origin xyz="0 0 0" rpy="0 0 0"/>
      <geometry>
        <mesh filename="handle~handle7_convex_piece_49.obj" scale="1.0000E+00 1.0000E+00 1.0000E+00"/>
      </geometry>
      <material name=""/>
    </visual>
    <collision>
      <origin xyz="0 0 0" rpy="0 0 0"/>
      <geometry>
        <mesh filename="handle~handle7_convex_piece_49.obj" scale="1.0000E+00 1.0000E+00 1.0000E+00"/>
      </geometry>
    </collision>
  </link>
  <joint name="link_handle~handle7_convex_piece_49_joint" type="fixed">
    <origin xyz="0 0 0" rpy="0 0 0"/>
    <parent link="link_handle~handle7_convex_piece_48"/>
    <child link="link_handle~handle7_convex_piece_49"/>
  </joint>
  <link name="link_handle~handle7_convex_piece_50">
    <inertial>
      <origin xyz="0 0 0" rpy="0 0 0"/>
      <mass value="2.92E-04"/>
      <inertia ixx="7.21E-08" ixy="-2.46E-08" ixz="-1.17E-07" iyy="2.72E-07" iyz="-1.44E-08" izz="2.07E-07"/>
    </inertial>
    <visual>
      <origin xyz="0 0 0" rpy="0 0 0"/>
      <geometry>
        <mesh filename="handle~handle7_convex_piece_50.obj" scale="1.0000E+00 1.0000E+00 1.0000E+00"/>
      </geometry>
      <material name=""/>
    </visual>
    <collision>
      <origin xyz="0 0 0" rpy="0 0 0"/>
      <geometry>
        <mesh filename="handle~handle7_convex_piece_50.obj" scale="1.0000E+00 1.0000E+00 1.0000E+00"/>
      </geometry>
    </collision>
  </link>
  <joint name="link_handle~handle7_convex_piece_50_joint" type="fixed">
    <origin xyz="0 0 0" rpy="0 0 0"/>
    <parent link="link_handle~handle7_convex_piece_49"/>
    <child link="link_handle~handle7_convex_piece_50"/>
  </joint>
  <link name="link_handle~handle7_convex_piece_51">
    <inertial>
      <origin xyz="0 0 0" rpy="0 0 0"/>
      <mass value="4.64E-04"/>
      <inertia ixx="1.52E-08" ixy="-1.63E-08" ixz="-1.52E-07" iyy="2.82E-06" iyz="-1.07E-09" izz="2.82E-06"/>
    </inertial>
    <visual>
      <origin xyz="0 0 0" rpy="0 0 0"/>
      <geometry>
        <mesh filename="handle~handle7_convex_piece_51.obj" scale="1.0000E+00 1.0000E+00 1.0000E+00"/>
      </geometry>
      <material name=""/>
    </visual>
    <collision>
      <origin xyz="0 0 0" rpy="0 0 0"/>
      <geometry>
        <mesh filename="handle~handle7_convex_piece_51.obj" scale="1.0000E+00 1.0000E+00 1.0000E+00"/>
      </geometry>
    </collision>
  </link>
  <joint name="link_handle~handle7_convex_piece_51_joint" type="fixed">
    <origin xyz="0 0 0" rpy="0 0 0"/>
    <parent link="link_handle~handle7_convex_piece_50"/>
    <child link="link_handle~handle7_convex_piece_51"/>
  </joint>
  <link name="link_handle~handle7_convex_piece_52">
    <inertial>
      <origin xyz="0 0 0" rpy="0 0 0"/>
      <mass value="1.82E-04"/>
      <inertia ixx="7.00E-08" ixy="2.41E-08" ixz="-9.36E-08" iyy="2.65E-07" iyz="1.15E-08" izz="2.00E-07"/>
    </inertial>
    <visual>
      <origin xyz="0 0 0" rpy="0 0 0"/>
      <geometry>
        <mesh filename="handle~handle7_convex_piece_52.obj" scale="1.0000E+00 1.0000E+00 1.0000E+00"/>
      </geometry>
      <material name=""/>
    </visual>
    <collision>
      <origin xyz="0 0 0" rpy="0 0 0"/>
      <geometry>
        <mesh filename="handle~handle7_convex_piece_52.obj" scale="1.0000E+00 1.0000E+00 1.0000E+00"/>
      </geometry>
    </collision>
  </link>
  <joint name="link_handle~handle7_convex_piece_52_joint" type="fixed">
    <origin xyz="0 0 0" rpy="0 0 0"/>
    <parent link="link_handle~handle7_convex_piece_51"/>
    <child link="link_handle~handle7_convex_piece_52"/>
  </joint>
  <link name="link_handle~handle7_convex_piece_53">
    <inertial>
      <origin xyz="0 0 0" rpy="0 0 0"/>
      <mass value="2.14E-04"/>
      <inertia ixx="2.05E-07" ixy="2.10E-08" ixz="-2.44E-07" iyy="5.00E-07" iyz="1.75E-08" izz="2.98E-07"/>
    </inertial>
    <visual>
      <origin xyz="0 0 0" rpy="0 0 0"/>
      <geometry>
        <mesh filename="handle~handle7_convex_piece_53.obj" scale="1.0000E+00 1.0000E+00 1.0000E+00"/>
      </geometry>
      <material name=""/>
    </visual>
    <collision>
      <origin xyz="0 0 0" rpy="0 0 0"/>
      <geometry>
        <mesh filename="handle~handle7_convex_piece_53.obj" scale="1.0000E+00 1.0000E+00 1.0000E+00"/>
      </geometry>
    </collision>
  </link>
  <joint name="link_handle~handle7_convex_piece_53_joint" type="fixed">
    <origin xyz="0 0 0" rpy="0 0 0"/>
    <parent link="link_handle~handle7_convex_piece_52"/>
    <child link="link_handle~handle7_convex_piece_53"/>
  </joint>
  <link name="link_handle~handle7_convex_piece_54">
    <inertial>
      <origin xyz="0 0 0" rpy="0 0 0"/>
      <mass value="3.63E-04"/>
      <inertia ixx="2.85E-07" ixy="2.64E-08" ixz="-2.86E-07" iyy="5.80E-07" iyz="2.55E-08" izz="3.00E-07"/>
    </inertial>
    <visual>
      <origin xyz="0 0 0" rpy="0 0 0"/>
      <geometry>
        <mesh filename="handle~handle7_convex_piece_54.obj" scale="1.0000E+00 1.0000E+00 1.0000E+00"/>
      </geometry>
      <material name=""/>
    </visual>
    <collision>
      <origin xyz="0 0 0" rpy="0 0 0"/>
      <geometry>
        <mesh filename="handle~handle7_convex_piece_54.obj" scale="1.0000E+00 1.0000E+00 1.0000E+00"/>
      </geometry>
    </collision>
  </link>
  <joint name="link_handle~handle7_convex_piece_54_joint" type="fixed">
    <origin xyz="0 0 0" rpy="0 0 0"/>
    <parent link="link_handle~handle7_convex_piece_53"/>
    <child link="link_handle~handle7_convex_piece_54"/>
  </joint>
  <link name="link_handle~handle7_convex_piece_55">
    <inertial>
      <origin xyz="0 0 0" rpy="0 0 0"/>
      <mass value="2.66E-04"/>
      <inertia ixx="2.58E-07" ixy="4.80E-08" ixz="-2.73E-07" iyy="5.54E-07" iyz="4.32E-08" izz="3.12E-07"/>
    </inertial>
    <visual>
      <origin xyz="0 0 0" rpy="0 0 0"/>
      <geometry>
        <mesh filename="handle~handle7_convex_piece_55.obj" scale="1.0000E+00 1.0000E+00 1.0000E+00"/>
      </geometry>
      <material name=""/>
    </visual>
    <collision>
      <origin xyz="0 0 0" rpy="0 0 0"/>
      <geometry>
        <mesh filename="handle~handle7_convex_piece_55.obj" scale="1.0000E+00 1.0000E+00 1.0000E+00"/>
      </geometry>
    </collision>
  </link>
  <joint name="link_handle~handle7_convex_piece_55_joint" type="fixed">
    <origin xyz="0 0 0" rpy="0 0 0"/>
    <parent link="link_handle~handle7_convex_piece_54"/>
    <child link="link_handle~handle7_convex_piece_55"/>
  </joint>
  <link name="link_handle~handle7_convex_piece_56">
    <inertial>
      <origin xyz="0 0 0" rpy="0 0 0"/>
      <mass value="4.65E-03"/>
      <inertia ixx="5.23E-07" ixy="-3.92E-07" ixz="5.22E-07" iyy="1.78E-06" iyz="1.96E-07" izz="1.62E-06"/>
    </inertial>
    <visual>
      <origin xyz="0 0 0" rpy="0 0 0"/>
      <geometry>
        <mesh filename="handle~handle7_convex_piece_56.obj" scale="1.0000E+00 1.0000E+00 1.0000E+00"/>
      </geometry>
      <material name=""/>
    </visual>
    <collision>
      <origin xyz="0 0 0" rpy="0 0 0"/>
      <geometry>
        <mesh filename="handle~handle7_convex_piece_56.obj" scale="1.0000E+00 1.0000E+00 1.0000E+00"/>
      </geometry>
    </collision>
  </link>
  <joint name="link_handle~handle7_convex_piece_56_joint" type="fixed">
    <origin xyz="0 0 0" rpy="0 0 0"/>
    <parent link="link_handle~handle7_convex_piece_55"/>
    <child link="link_handle~handle7_convex_piece_56"/>
  </joint>
  <link name="link_handle~handle7_convex_piece_57">
    <inertial>
      <origin xyz="0 0 0" rpy="0 0 0"/>
      <mass value="7.59E-04"/>
      <inertia ixx="8.76E-08" ixy="2.43E-07" ixz="-4.07E-07" iyy="3.03E-06" iyz="3.38E-08" izz="2.99E-06"/>
    </inertial>
    <visual>
      <origin xyz="0 0 0" rpy="0 0 0"/>
      <geometry>
        <mesh filename="handle~handle7_convex_piece_57.obj" scale="1.0000E+00 1.0000E+00 1.0000E+00"/>
      </geometry>
      <material name=""/>
    </visual>
    <collision>
      <origin xyz="0 0 0" rpy="0 0 0"/>
      <geometry>
        <mesh filename="handle~handle7_convex_piece_57.obj" scale="1.0000E+00 1.0000E+00 1.0000E+00"/>
      </geometry>
    </collision>
  </link>
  <joint name="link_handle~handle7_convex_piece_57_joint" type="fixed">
    <origin xyz="0 0 0" rpy="0 0 0"/>
    <parent link="link_handle~handle7_convex_piece_56"/>
    <child link="link_handle~handle7_convex_piece_57"/>
  </joint>
  <link name="link_handle~handle7_convex_piece_58">
    <inertial>
      <origin xyz="0 0 0" rpy="0 0 0"/>
      <mass value="3.18E-03"/>
      <inertia ixx="3.87E-07" ixy="-7.10E-08" ixz="-1.73E-07" iyy="5.83E-07" iyz="-1.25E-07" izz="3.73E-07"/>
    </inertial>
    <visual>
      <origin xyz="0 0 0" rpy="0 0 0"/>
      <geometry>
        <mesh filename="handle~handle7_convex_piece_58.obj" scale="1.0000E+00 1.0000E+00 1.0000E+00"/>
      </geometry>
      <material name=""/>
    </visual>
    <collision>
      <origin xyz="0 0 0" rpy="0 0 0"/>
      <geometry>
        <mesh filename="handle~handle7_convex_piece_58.obj" scale="1.0000E+00 1.0000E+00 1.0000E+00"/>
      </geometry>
    </collision>
  </link>
  <joint name="link_handle~handle7_convex_piece_58_joint" type="fixed">
    <origin xyz="0 0 0" rpy="0 0 0"/>
    <parent link="link_handle~handle7_convex_piece_57"/>
    <child link="link_handle~handle7_convex_piece_58"/>
  </joint>
  <link name="link_handle~handle7_convex_piece_59">
    <inertial>
      <origin xyz="0 0 0" rpy="0 0 0"/>
      <mass value="1.89E-04"/>
      <inertia ixx="3.51E-09" ixy="-3.07E-09" ixz="1.99E-08" iyy="2.07E-07" iyz="1.18E-10" izz="2.06E-07"/>
    </inertial>
    <visual>
      <origin xyz="0 0 0" rpy="0 0 0"/>
      <geometry>
        <mesh filename="handle~handle7_convex_piece_59.obj" scale="1.0000E+00 1.0000E+00 1.0000E+00"/>
      </geometry>
      <material name=""/>
    </visual>
    <collision>
      <origin xyz="0 0 0" rpy="0 0 0"/>
      <geometry>
        <mesh filename="handle~handle7_convex_piece_59.obj" scale="1.0000E+00 1.0000E+00 1.0000E+00"/>
      </geometry>
    </collision>
  </link>
  <joint name="link_handle~handle7_convex_piece_59_joint" type="fixed">
    <origin xyz="0 0 0" rpy="0 0 0"/>
    <parent link="link_handle~handle7_convex_piece_58"/>
    <child link="link_handle~handle7_convex_piece_59"/>
  </joint>
  <link name="link_handle~handle7_convex_piece_60">
    <inertial>
      <origin xyz="0 0 0" rpy="0 0 0"/>
      <mass value="4.02E-04"/>
      <inertia ixx="2.12E-07" ixy="-1.26E-08" ixz="-2.24E-07" iyy="4.51E-07" iyz="-1.13E-08" izz="2.48E-07"/>
    </inertial>
    <visual>
      <origin xyz="0 0 0" rpy="0 0 0"/>
      <geometry>
        <mesh filename="handle~handle7_convex_piece_60.obj" scale="1.0000E+00 1.0000E+00 1.0000E+00"/>
      </geometry>
      <material name=""/>
    </visual>
    <collision>
      <origin xyz="0 0 0" rpy="0 0 0"/>
      <geometry>
        <mesh filename="handle~handle7_convex_piece_60.obj" scale="1.0000E+00 1.0000E+00 1.0000E+00"/>
      </geometry>
    </collision>
  </link>
  <joint name="link_handle~handle7_convex_piece_60_joint" type="fixed">
    <origin xyz="0 0 0" rpy="0 0 0"/>
    <parent link="link_handle~handle7_convex_piece_59"/>
    <child link="link_handle~handle7_convex_piece_60"/>
  </joint>
  <link name="link_handle~handle7_convex_piece_61">
    <inertial>
      <origin xyz="0 0 0" rpy="0 0 0"/>
      <mass value="1.07E-04"/>
      <inertia ixx="5.36E-09" ixy="2.99E-08" ixz="-1.16E-08" iyy="2.36E-07" iyz="1.75E-09" izz="2.40E-07"/>
    </inertial>
    <visual>
      <origin xyz="0 0 0" rpy="0 0 0"/>
      <geometry>
        <mesh filename="handle~handle7_convex_piece_61.obj" scale="1.0000E+00 1.0000E+00 1.0000E+00"/>
      </geometry>
      <material name=""/>
    </visual>
    <collision>
      <origin xyz="0 0 0" rpy="0 0 0"/>
      <geometry>
        <mesh filename="handle~handle7_convex_piece_61.obj" scale="1.0000E+00 1.0000E+00 1.0000E+00"/>
      </geometry>
    </collision>
  </link>
  <joint name="link_handle~handle7_convex_piece_61_joint" type="fixed">
    <origin xyz="0 0 0" rpy="0 0 0"/>
    <parent link="link_handle~handle7_convex_piece_60"/>
    <child link="link_handle~handle7_convex_piece_61"/>
  </joint>
  <link name="link_handle~handle7_convex_piece_62">
    <inertial>
      <origin xyz="0 0 0" rpy="0 0 0"/>
      <mass value="2.34E-04"/>
      <inertia ixx="1.57E-07" ixy="-2.27E-08" ixz="-1.72E-07" iyy="3.49E-07" iyz="-2.00E-08" izz="1.99E-07"/>
    </inertial>
    <visual>
      <origin xyz="0 0 0" rpy="0 0 0"/>
      <geometry>
        <mesh filename="handle~handle7_convex_piece_62.obj" scale="1.0000E+00 1.0000E+00 1.0000E+00"/>
      </geometry>
      <material name=""/>
    </visual>
    <collision>
      <origin xyz="0 0 0" rpy="0 0 0"/>
      <geometry>
        <mesh filename="handle~handle7_convex_piece_62.obj" scale="1.0000E+00 1.0000E+00 1.0000E+00"/>
      </geometry>
    </collision>
  </link>
  <joint name="link_handle~handle7_convex_piece_62_joint" type="fixed">
    <origin xyz="0 0 0" rpy="0 0 0"/>
    <parent link="link_handle~handle7_convex_piece_61"/>
    <child link="link_handle~handle7_convex_piece_62"/>
  </joint>
  <link name="link_handle~handle7_convex_piece_63">
    <inertial>
      <origin xyz="0 0 0" rpy="0 0 0"/>
      <mass value="5.14E-03"/>
      <inertia ixx="7.34E-07" ixy="-8.98E-10" ixz="-1.84E-06" iyy="7.16E-06" iyz="-1.30E-10" izz="6.74E-06"/>
    </inertial>
    <visual>
      <origin xyz="0 0 0" rpy="0 0 0"/>
      <geometry>
        <mesh filename="handle~handle7_convex_piece_63.obj" scale="1.0000E+00 1.0000E+00 1.0000E+00"/>
      </geometry>
      <material name=""/>
    </visual>
    <collision>
      <origin xyz="0 0 0" rpy="0 0 0"/>
      <geometry>
        <mesh filename="handle~handle7_convex_piece_63.obj" scale="1.0000E+00 1.0000E+00 1.0000E+00"/>
      </geometry>
    </collision>
  </link>
  <joint name="link_handle~handle7_convex_piece_63_joint" type="fixed">
    <origin xyz="0 0 0" rpy="0 0 0"/>
    <parent link="link_handle~handle7_convex_piece_62"/>
    <child link="link_handle~handle7_convex_piece_63"/>
  </joint>
</robot>
